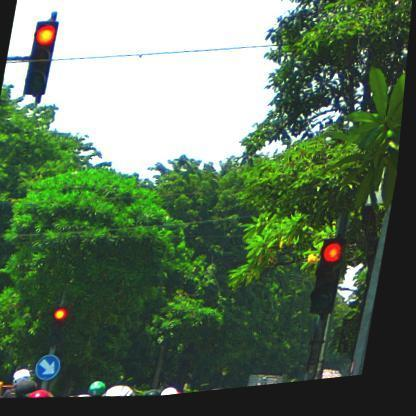red: (22, 18, 62, 98), (315, 244, 353, 325)
